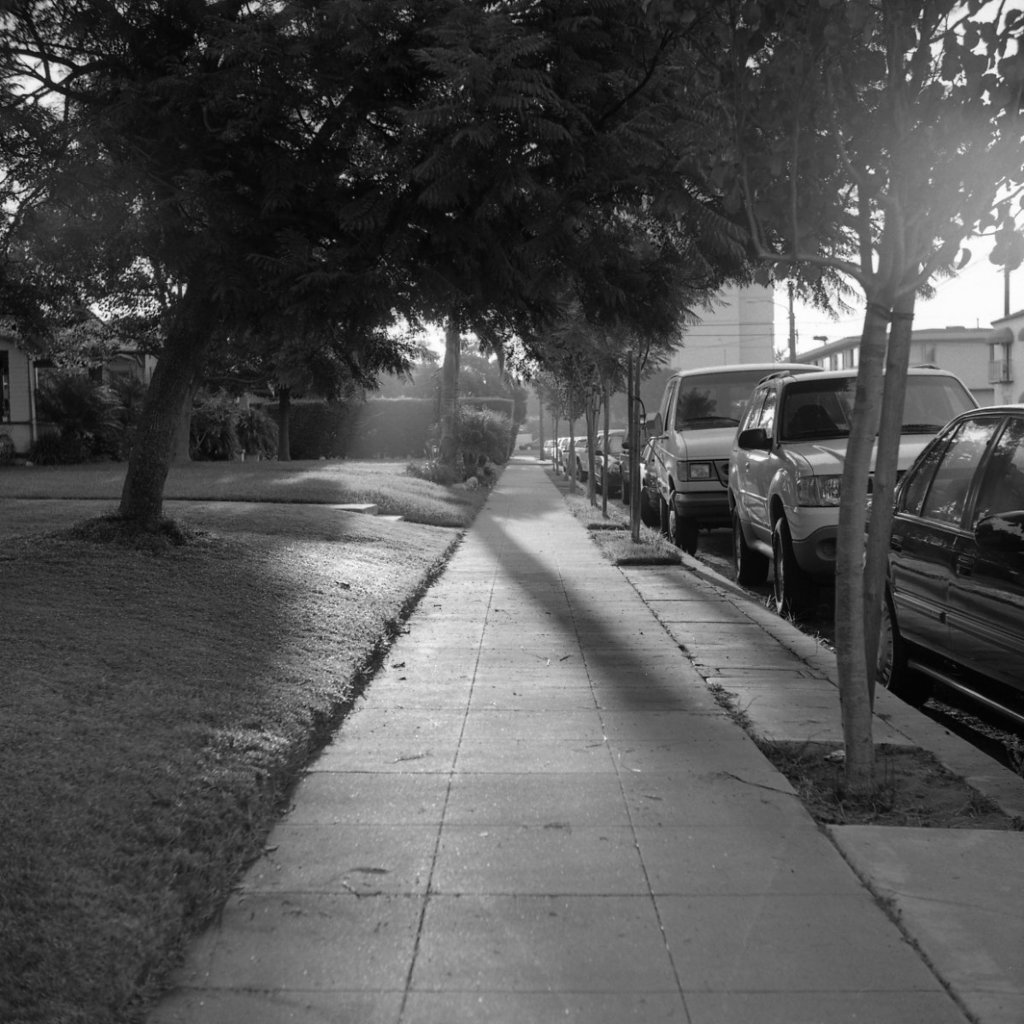Car: (537, 363, 980, 613), (841, 343, 1020, 749)
